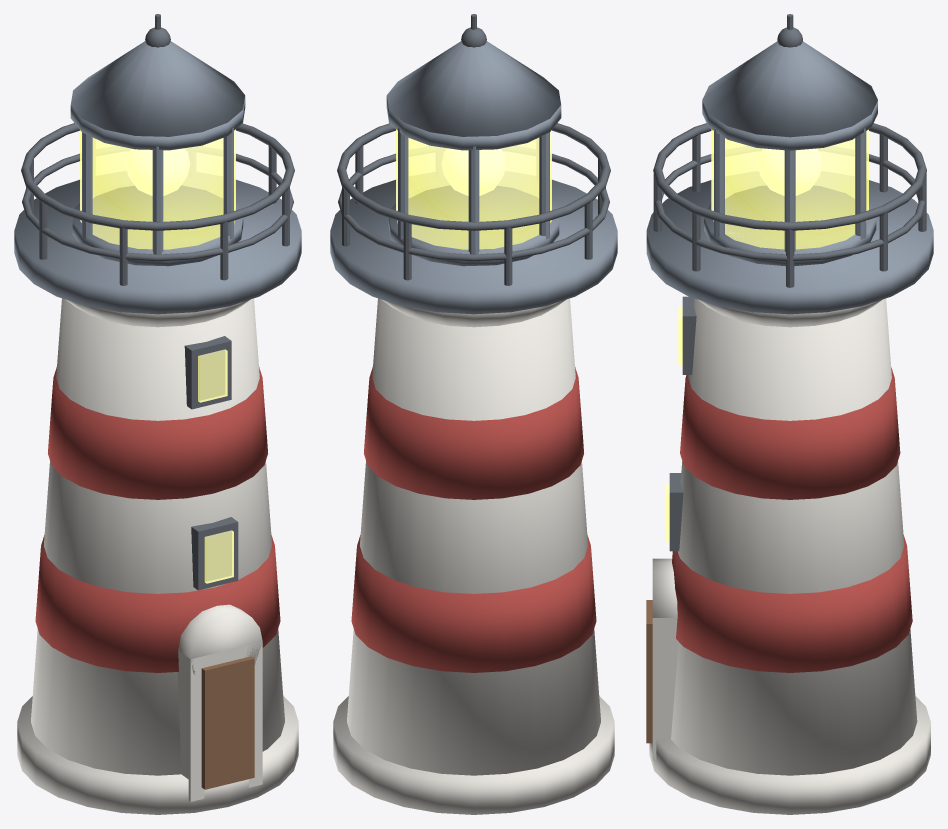
File: a-compact-stylized-coastal-lighthouse-tower-for-rough.glb
3 renders of one model, left to right at view 1: azimuth 30°, elevation 25°; view 2: azimuth 150°, elevation 25°; view 3: azimuth 270°, elevation 25°, orthographic.
Visible parts, largest first — view 1: TowerBody, RedBand_2, GalleryDeck, RedBand_1, LanternDome, LanternGlass, Plinth, LanternBase, Door, DoorFrame, RailRingTop, DoorArch (+11 smaller); view 2: TowerBody, RedBand_1, RedBand_2, GalleryDeck, Plinth, LanternDome, LanternGlass, LanternBase, RailRingTop, RailRingMid, LanternTopRing, LightBulb (+4 smaller); view 3: TowerBody, RedBand_1, RedBand_2, GalleryDeck, Plinth, LanternDome, LanternGlass, LanternBase, RailRingTop, RailRingMid, DoorFrame, LanternTopRing (+9 smaller).
Part boxes in pixels (x1,y1,x2,y2): TowerBody: [31, 298, 284, 775]; RedBand_2: [48, 367, 267, 499]; GalleryDeck: [14, 179, 301, 314]; RedBand_1: [35, 535, 280, 672]; LanternDome: [71, 41, 244, 136]; LanternGlass: [80, 129, 235, 249]; Plinth: [17, 696, 298, 814]; LanternBase: [72, 185, 243, 266]; Door: [201, 656, 254, 789]; DoorFrame: [177, 642, 262, 801]; RailRingTop: [21, 123, 294, 230]; DoorArch: [178, 604, 262, 674]; TowerBody: [347, 298, 600, 775]; RedBand_1: [351, 535, 596, 672]; RedBand_2: [364, 367, 583, 499]; GalleryDeck: [330, 179, 617, 314]; Plinth: [333, 696, 614, 814]; LanternDome: [387, 41, 560, 136]; LanternGlass: [396, 129, 551, 249]; LanternBase: [388, 185, 559, 266]; RailRingTop: [337, 123, 610, 230]; RailRingMid: [338, 153, 609, 261]; LanternTopRing: [386, 96, 561, 150]; LightBulb: [442, 148, 505, 195]; TowerBody: [671, 298, 917, 775]; RedBand_1: [672, 535, 912, 672]; RedBand_2: [680, 367, 900, 499]; GalleryDeck: [646, 180, 933, 314]; Plinth: [649, 696, 930, 814]; LanternDome: [702, 41, 877, 137]; LanternGlass: [711, 129, 868, 249]; LanternBase: [704, 185, 876, 266]; RailRingTop: [653, 123, 926, 230]; RailRingMid: [654, 154, 925, 261]; DoorFrame: [652, 618, 678, 760]; LanternTopRing: [702, 101, 877, 150].
Bounding box in the file's own units: 0.7029 × 2 × 0.7037.
